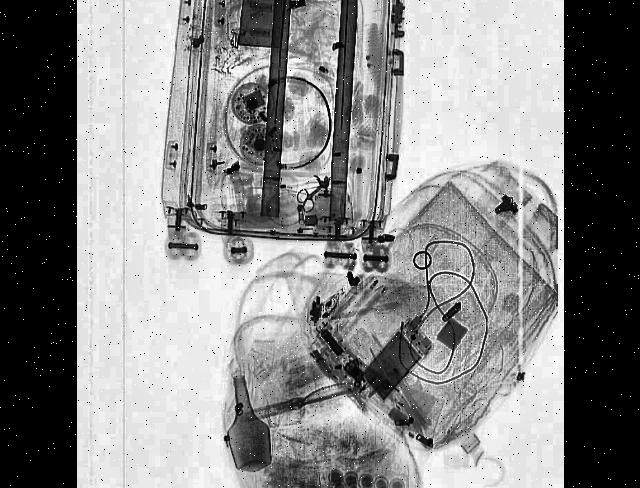Scissors: (292, 163, 334, 217)
